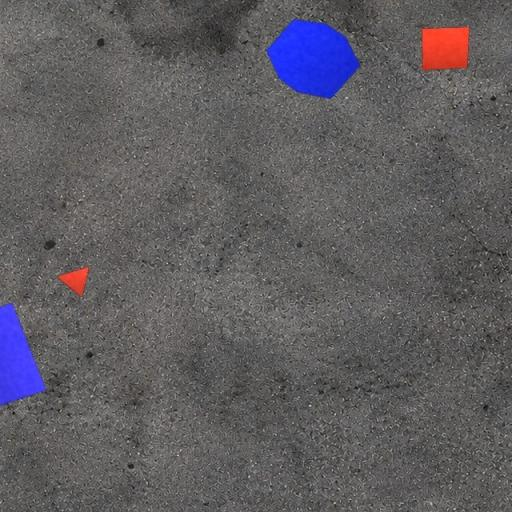BLUE_SQUARE: (0, 302, 47, 417)
RED_SQUARE: (421, 26, 470, 70)
